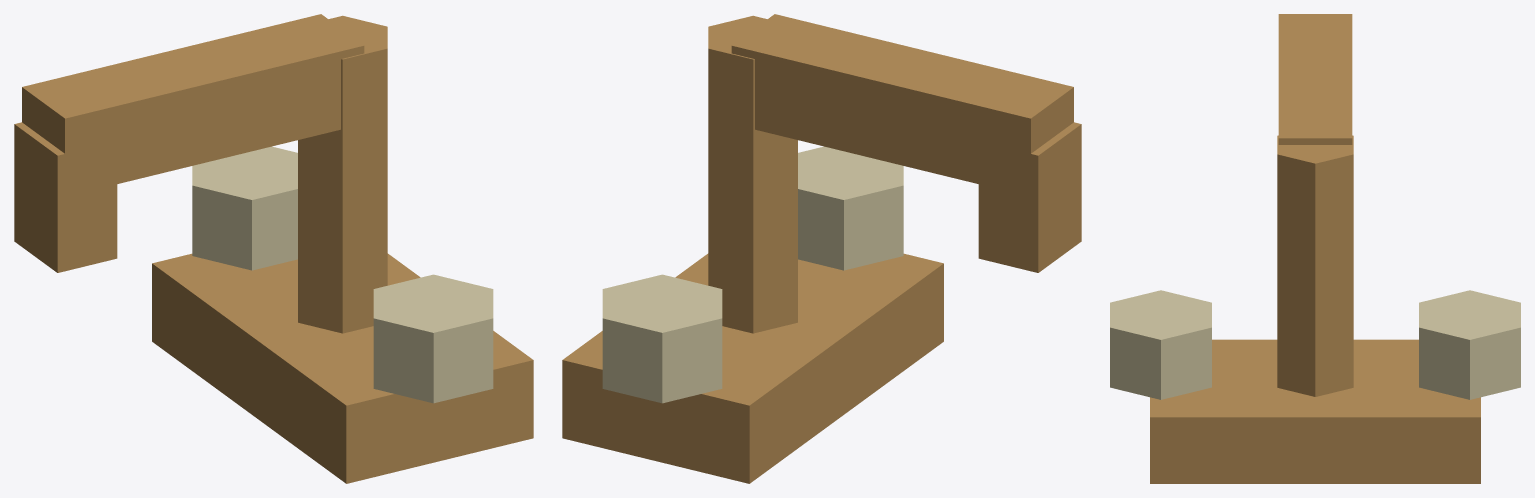
File: faucet.glb
3 renders of one model, left to right at view 1: azimuth 30°, elevation 25°; view 2: azimuth 150°, elevation 25°; view 3: azimuth 270°, elevation 25°, orthographic. The views are drawn at different scales.
Visible parts, largest first — view 1: Base, Spout, Riser, KnobB, KnobA, Lip; view 2: Base, Spout, Riser, KnobA, KnobB, Lip; view 3: Base, Riser, KnobA, KnobB, Spout.
Part boxes in pixels (box(x1,y1,x2,y2)): Base: box(152, 253, 533, 483); Spout: box(22, 14, 364, 196); Riser: box(298, 15, 387, 333); KnobB: box(373, 274, 493, 403); KnobA: box(192, 146, 297, 270); Lip: box(14, 122, 117, 272); Base: box(562, 253, 943, 483); Spout: box(731, 14, 1073, 196); Riser: box(708, 15, 797, 333); KnobA: box(602, 274, 722, 403); KnobB: box(798, 146, 903, 270); Lip: box(978, 122, 1081, 272); Base: box(1150, 339, 1480, 483); Riser: box(1277, 135, 1353, 396); KnobA: box(1419, 290, 1520, 399); KnobB: box(1110, 290, 1211, 399); Spout: box(1278, 14, 1352, 144).
Size of the model in its own units: 1.07 by 0.92 by 1.12.
